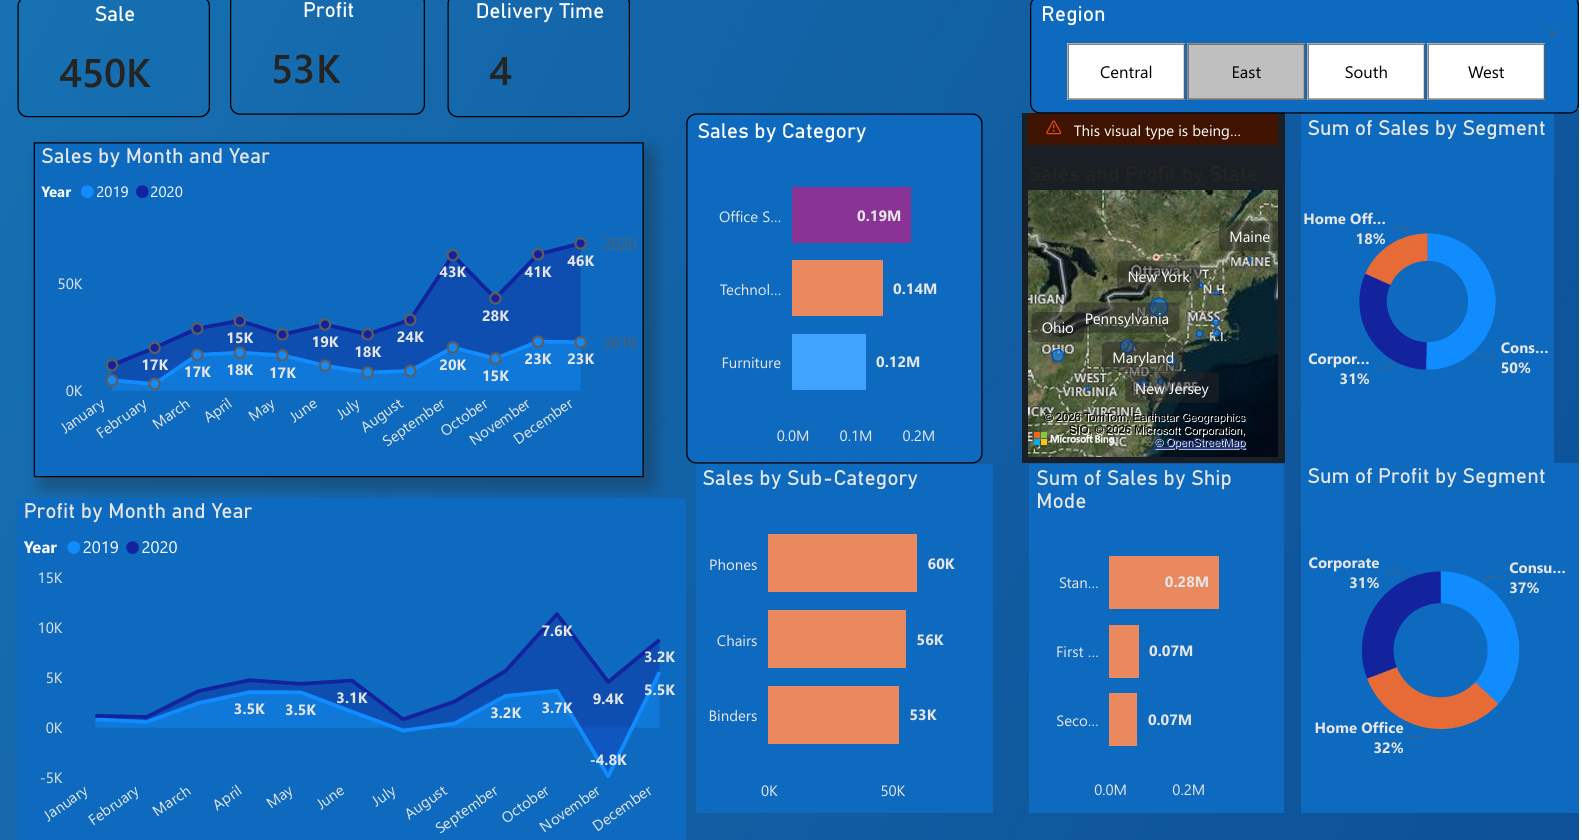

The dashboard page shown, as its layout file describes it:
{"tool":"powerbi","page":{"name":"Sales Dashboard","canvas":[1280,720],"ordinal":0},"visuals":[{"type":"clusteredBarChart","title":"Sales by Category","fields":{"Category":["Table1.Category"],"Y":["Sum(Table1.Sales)"]},"box":[565.1,105.8,237.2,280.2],"z":0},{"type":"clusteredBarChart","title":"Sales by Sub-Category","fields":{"Category":["Table1.Sub-Category"],"Y":["Sum(Table1.Sales)"]},"box":[573.3,387.2,237.2,279.1],"z":1},{"type":"clusteredBarChart","fields":{"Category":["Table1.Ship Mode"],"Y":["Sum(Table1.Sales)"]},"box":[839.5,387.2,204.7,279.1],"z":2},{"type":"stackedAreaChart","title":"Sales by Month and Year","fields":{"Y":["Sum(Table1.Sales)"],"Series":["Table1.Order Date.Variation.Date Hierarchy.Year"],"Category":["Table1.Order Date.Variation.Date Hierarchy.Month"]},"box":[43,129.1,488.4,267.4],"z":3},{"type":"stackedAreaChart","title":"Profit by Month and Year","fields":{"Series":["Table1.Order Date.Variation.Date Hierarchy.Year"],"Category":["Table1.Order Date.Variation.Date Hierarchy.Month"],"Y":["Sum(Table1.Profit)"]},"box":[30.2,414,534.9,290.7],"z":4},{"type":"map","fields":{"Size":["Sum(Table1.Sales)"],"Category":["Table1.State"]},"box":[833.7,105.8,210.5,280.2],"z":5},{"type":"donutChart","fields":{"Category":["Table1.Segment"],"Y":["Sum(Table1.Sales)"]},"box":[1057,107,202.3,280.2],"z":6},{"type":"donutChart","fields":{"Category":["Table1.Segment"],"Y":["Sum(Table1.Profit)"]},"box":[1057,386,223.3,280.2],"z":7},{"type":"slicer","title":"Region","fields":{"Values":["Table1.Region"]},"box":[839.5,11.6,440.7,94.2],"z":8},{"type":"cardVisual","title":"Sale","fields":{"Data":["Sum(Table1.Sales)"]},"box":[30.2,11.6,153.5,97.7],"z":9},{"type":"cardVisual","title":"Profit","fields":{"Data":["Sum(Table1.Profit)"]},"box":[200,8.6,155.7,98.6],"z":10},{"type":"cardVisual","title":"Delivery Time","fields":{"Data":["Avg(Table1.AvgDelivery)"]},"box":[374.3,10,145.7,98.6],"z":11}]}

Visuals, with their boxes on the page's 1280x720 design canvas (x1, y1, x2, y2). These are canvas units, not pixel positions in the 1582x840 screenshot, which may show the page scaled, cropped or inside an application window:
"Sales by Category" clusteredBarChart: bbox=(565, 106, 802, 386)
"Sales by Sub-Category" clusteredBarChart: bbox=(573, 387, 810, 666)
clusteredBarChart - Table1.Ship Mode x Sum(Table1.Sales): bbox=(840, 387, 1044, 666)
"Sales by Month and Year" stackedAreaChart: bbox=(43, 129, 531, 396)
"Profit by Month and Year" stackedAreaChart: bbox=(30, 414, 565, 705)
map - Sum(Table1.Sales) x Table1.State: bbox=(834, 106, 1044, 386)
donutChart - Table1.Segment x Sum(Table1.Sales): bbox=(1057, 107, 1259, 387)
donutChart - Table1.Segment x Sum(Table1.Profit): bbox=(1057, 386, 1280, 666)
"Region" slicer: bbox=(840, 12, 1280, 106)
"Sale" cardVisual: bbox=(30, 12, 184, 109)
"Profit" cardVisual: bbox=(200, 9, 356, 107)
"Delivery Time" cardVisual: bbox=(374, 10, 520, 109)
